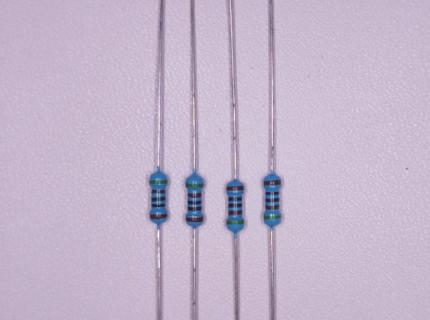Black band: (151, 197, 166, 202), (187, 200, 202, 205), (187, 206, 202, 211), (228, 203, 242, 208), (151, 204, 166, 208), (228, 197, 243, 201), (265, 198, 280, 202), (265, 192, 279, 195)
Brown band: (186, 216, 204, 223), (149, 214, 168, 220), (263, 180, 281, 186), (265, 205, 280, 210), (228, 210, 243, 215), (187, 193, 202, 198), (226, 186, 244, 190), (151, 190, 166, 194)
Green band: (185, 183, 204, 188), (226, 220, 245, 225), (263, 215, 281, 220), (149, 180, 167, 184)
